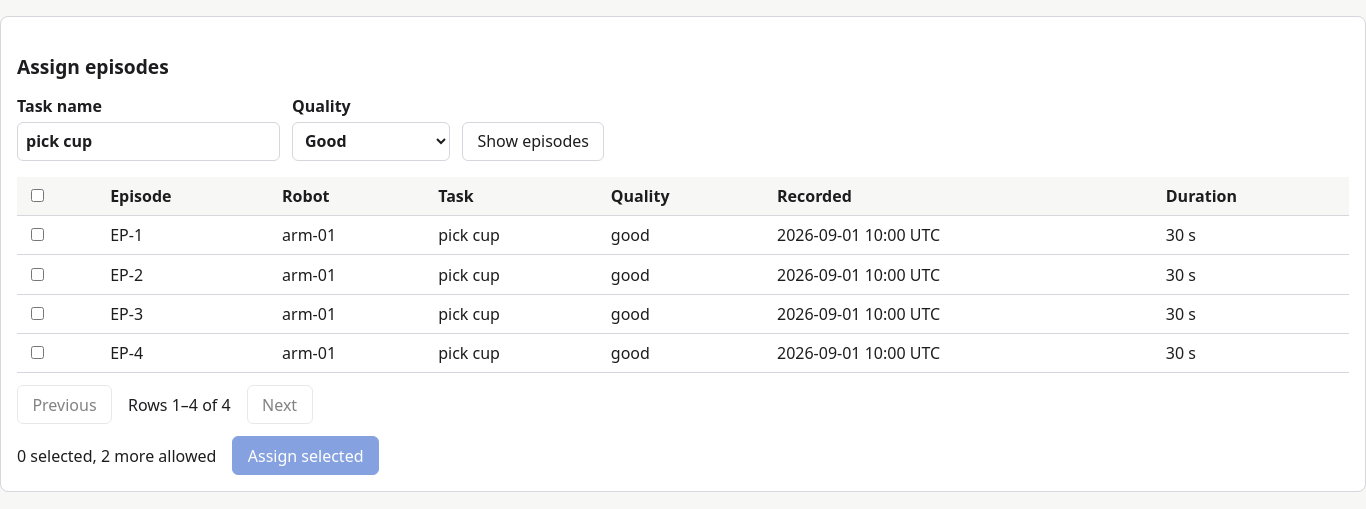
Test: assignment picker › selects every episode on the page with one checkbox
Click the checkbox named "Select all on this page".
click(37, 195)  # box [31, 189, 44, 202]
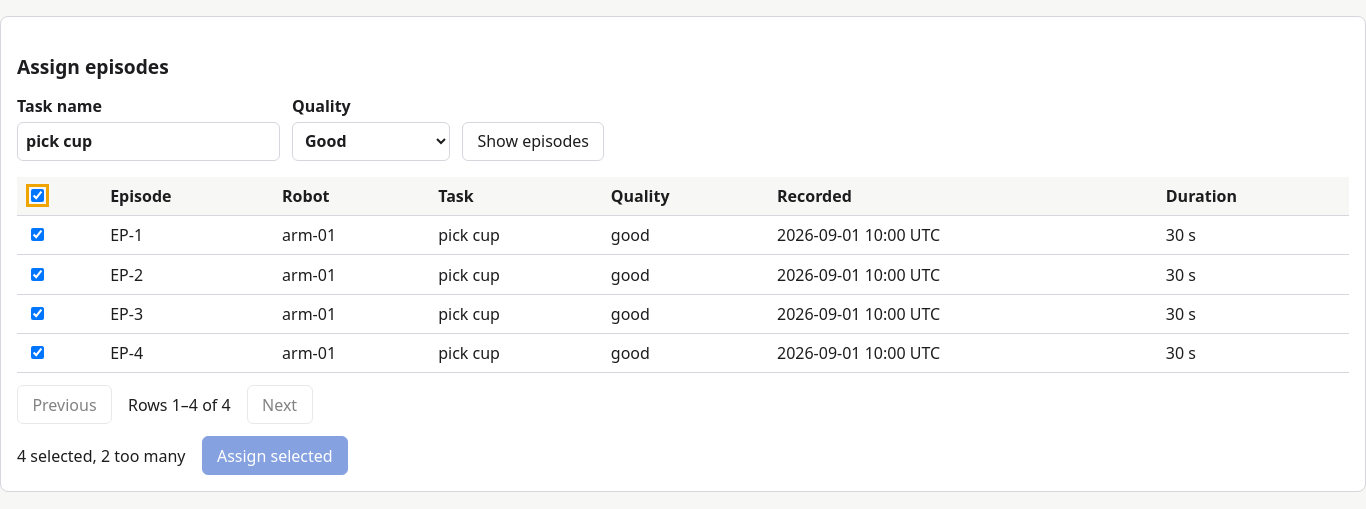
Expected: the message reads "4 selected, 2 too many", [17, 445, 186, 467]
